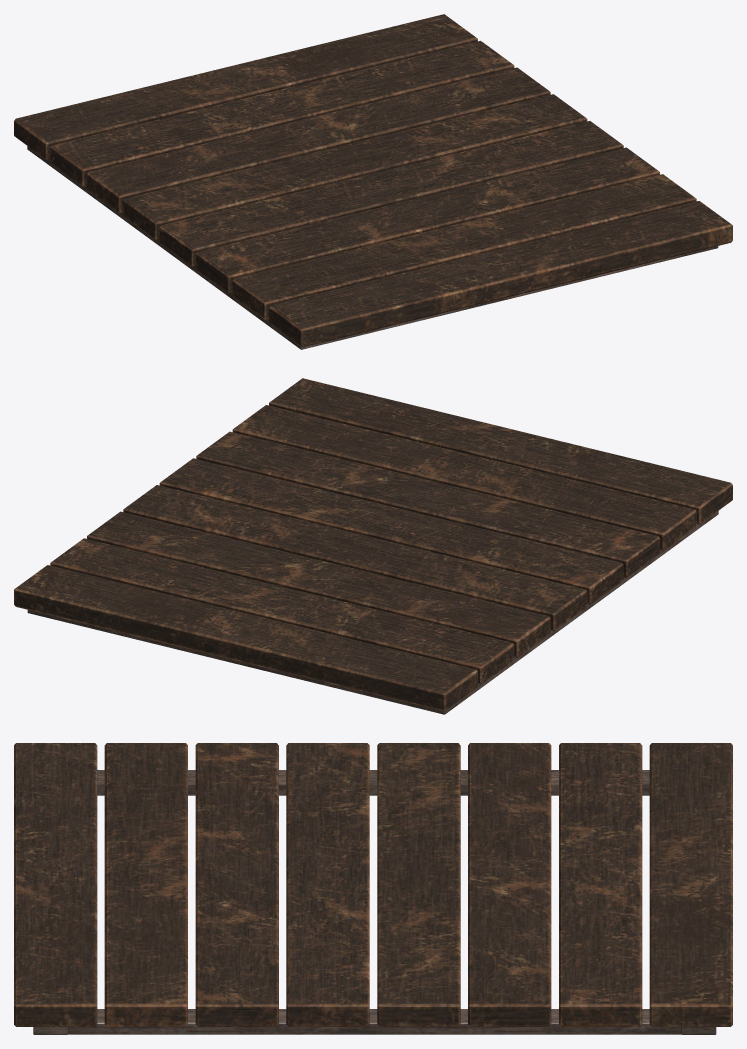
File: Stable_SecondFloor_LP.glb
3 renders of one model, top to bottom at view 1: azimuth 30°, elevation 25°; view 2: azimuth 150°, elevation 25°; view 3: azimuth 270°, elevation 25°, orthographic. The views are drawn at different scales.
Visible parts, largest first — view 1: Stable_SecondFloor_LP; view 2: Stable_SecondFloor_LP; view 3: Stable_SecondFloor_LP.
Part boxes in pixels (x1=…): Stable_SecondFloor_LP: x1=14, y1=14, x2=732, y2=349; Stable_SecondFloor_LP: x1=14, y1=378, x2=732, y2=714; Stable_SecondFloor_LP: x1=14, y1=743, x2=732, y2=1034.
Size of the model in its own units: 3.77 by 0.2333 by 4.35.
Materials: 1 (1 with a texture image).
